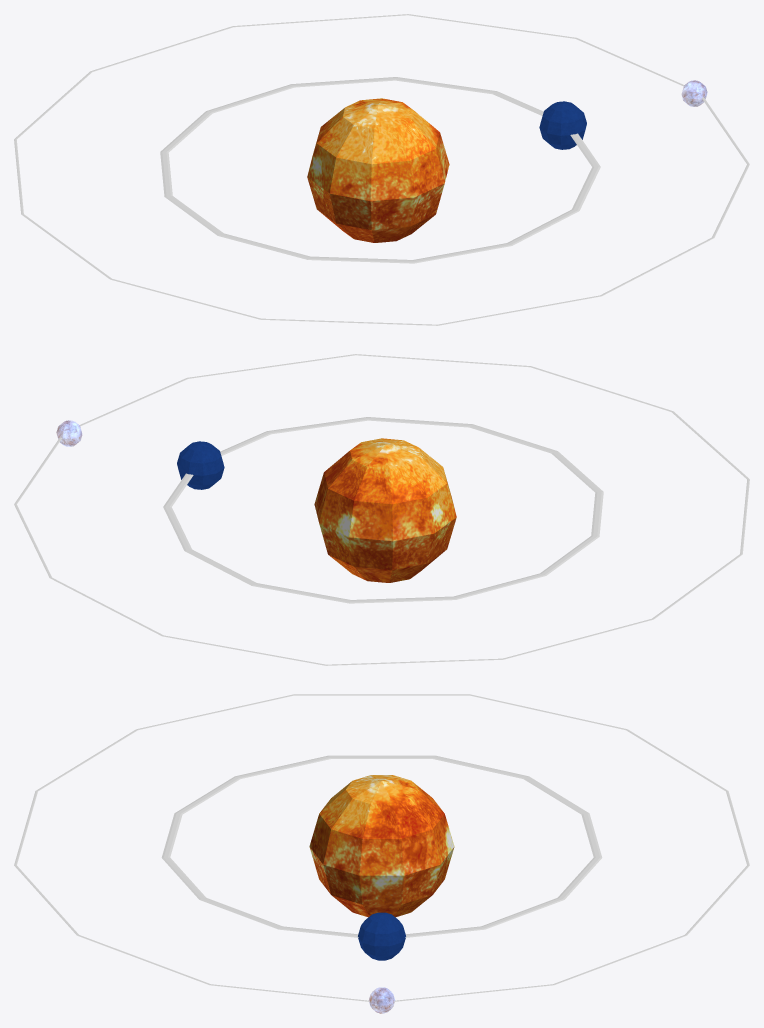
The model's file is proxima.glb.
3 views of the same model, one above another, from view 1: azimuth 30°, elevation 25°; view 2: azimuth 150°, elevation 25°; view 3: azimuth 270°, elevation 25° (orthographic).
Parts seen in each view (by area): view 1: Sphere, Torus, Torus.001, Sphere.001, Sphere.002; view 2: Sphere, Torus, Torus.001, Sphere.001, Sphere.002; view 3: Sphere, Torus, Torus.001, Sphere.001, Sphere.002.
Part boxes in pixels (box(x1,y1,x2,y2)): Sphere: box(307, 98, 449, 242); Torus: box(160, 77, 600, 263); Torus.001: box(14, 14, 749, 325); Sphere.001: box(539, 101, 586, 149); Sphere.002: box(681, 80, 707, 106); Sphere: box(314, 438, 456, 582); Torus: box(163, 417, 603, 603); Torus.001: box(14, 354, 749, 665); Sphere.001: box(177, 441, 224, 489); Sphere.002: box(56, 420, 82, 446); Sphere: box(309, 775, 454, 917); Torus: box(161, 755, 602, 937); Torus.001: box(14, 694, 749, 1001); Sphere.001: box(358, 912, 405, 960); Sphere.002: box(368, 987, 395, 1013).
Size of the model in its own units: 19.48 by 3.84 by 19.47.
4 materials, 3 textured.
